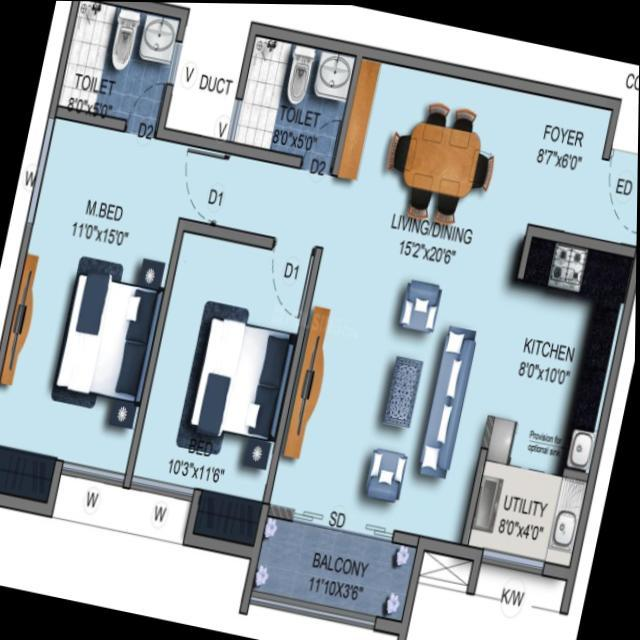Balcony-Sitout: (254, 516, 418, 620)
Bedroom: (134, 230, 315, 503)
Bedroom with Toilet: (0, 1, 230, 475)
Dining: (365, 85, 514, 251)
Enterance-Foyer: (520, 95, 639, 242)
Kitchen: (487, 235, 635, 479)
Living: (271, 248, 515, 541)
Toilet: (235, 37, 354, 162), (60, 1, 179, 125)
Utility: (470, 460, 589, 565)
